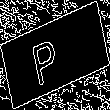P_N: (38, 25, 72, 85)
